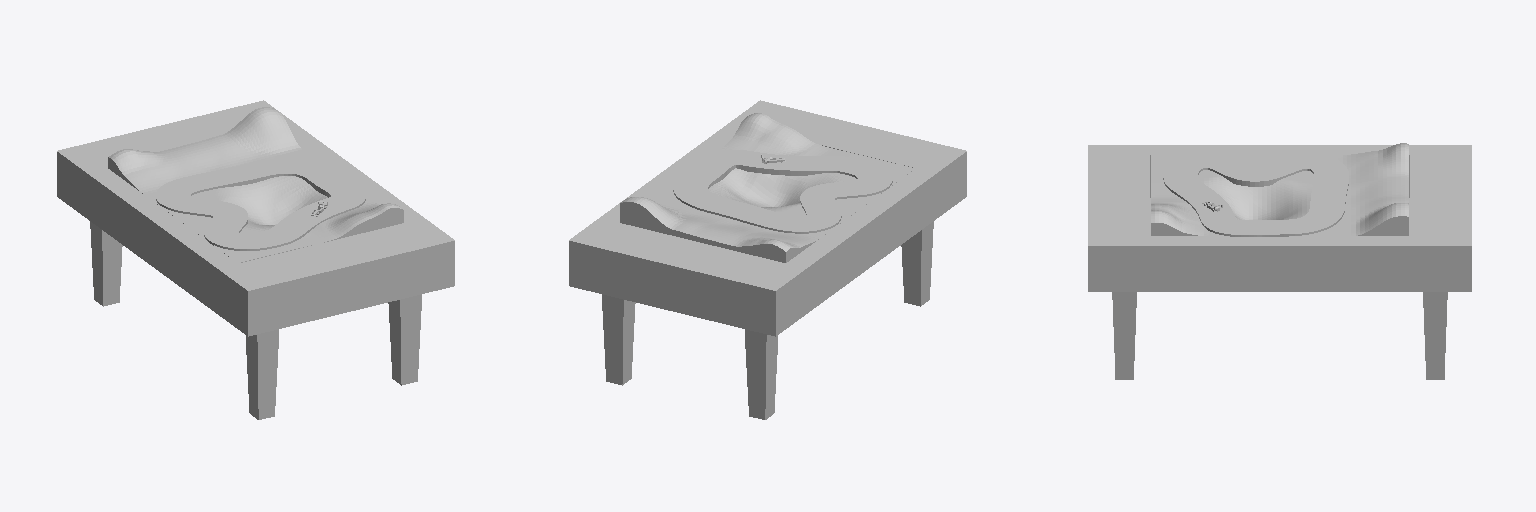
Rendered from NewestTisch40.obj.
3 renders of one model, left to right at view 1: azimuth 30°, elevation 25°; view 2: azimuth 150°, elevation 25°; view 3: azimuth 270°, elevation 25°, orthographic.
Visible parts, largest first — view 1: Tischplatte_wood_table_001, Landschaft_aerial_grass_rock, off, Bein1_wood_table_001, Bein4_wood_table_001.003, Bein3_wood_table_001.002; view 2: Tischplatte_wood_table_001, Landschaft_aerial_grass_rock, off, Bein2_wood_table_001.001, Bein3_wood_table_001.002, Bein4_wood_table_001.003; view 3: Tischplatte_wood_table_001, Landschaft_aerial_grass_rock, off, Bein1_wood_table_001, Bein2_wood_table_001.001.
Boxes of the visible parts, x1=… form: Tischplatte_wood_table_001: x1=57, y1=100, x2=454, y2=336; Landschaft_aerial_grass_rock: x1=108, y1=107, x2=403, y2=262; off: x1=156, y1=159, x2=365, y2=250; Bein1_wood_table_001: x1=388, y1=294, x2=421, y2=385; Bein4_wood_table_001.003: x1=246, y1=329, x2=278, y2=419; Bein3_wood_table_001.002: x1=90, y1=221, x2=122, y2=306; Tischplatte_wood_table_001: x1=569, y1=100, x2=966, y2=336; Landschaft_aerial_grass_rock: x1=620, y1=113, x2=915, y2=262; off: x1=673, y1=150, x2=892, y2=233; Bein2_wood_table_001.001: x1=602, y1=294, x2=635, y2=385; Bein3_wood_table_001.002: x1=745, y1=329, x2=777, y2=419; Bein4_wood_table_001.003: x1=901, y1=221, x2=933, y2=306; Tischplatte_wood_table_001: x1=1088, y1=145, x2=1471, y2=291; Landschaft_aerial_grass_rock: x1=1151, y1=143, x2=1408, y2=235; off: x1=1163, y1=153, x2=1348, y2=236; Bein1_wood_table_001: x1=1112, y1=292, x2=1136, y2=379; Bein2_wood_table_001.001: x1=1423, y1=292, x2=1447, y2=379.
Bounding box in the file's own units: 5 × 3.91 × 8.